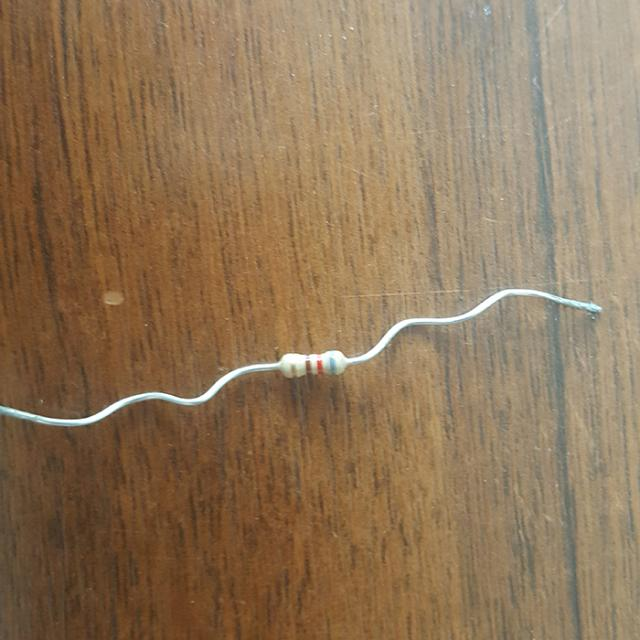brown: (304, 355, 311, 374)
gold: (290, 354, 295, 377)
grey: (328, 352, 336, 372)
red: (315, 354, 324, 373)
resistor: (273, 349, 353, 381)
